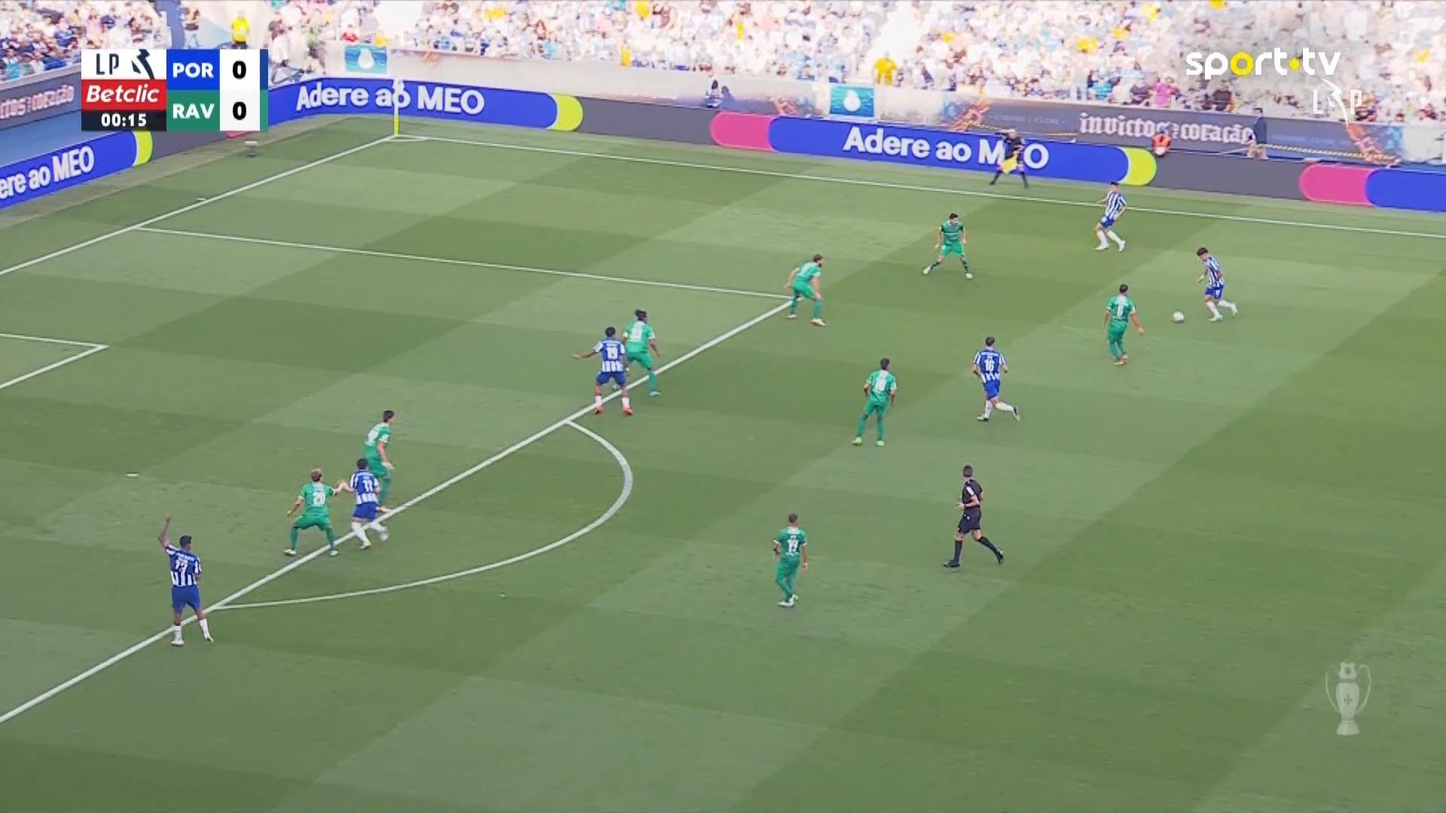ball: (1171, 311, 1184, 323)
player: (156, 513, 214, 646), (282, 467, 345, 557), (572, 325, 633, 416), (338, 457, 389, 549), (970, 335, 1020, 422), (851, 357, 897, 446), (621, 308, 662, 397), (770, 512, 808, 607), (362, 409, 396, 512), (921, 212, 973, 279), (1102, 282, 1143, 366), (1195, 245, 1237, 321), (783, 252, 826, 326), (1093, 180, 1127, 251), (1151, 123, 1172, 157)
referee: (941, 463, 1004, 568), (987, 127, 1030, 188)
